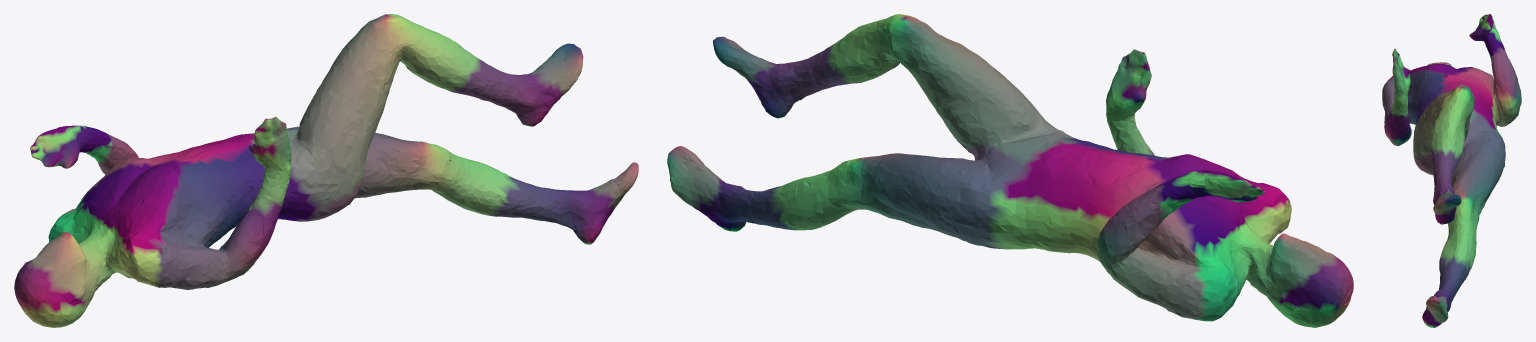
The model's file is man-14.off.obj.
3 renders of one model, left to right at view 1: azimuth 30°, elevation 25°; view 2: azimuth 150°, elevation 25°; view 3: azimuth 270°, elevation 25°, orthographic. The views are drawn at different scales.
Size of the model in its own units: 1.55 by 0.6092 by 0.4327.
